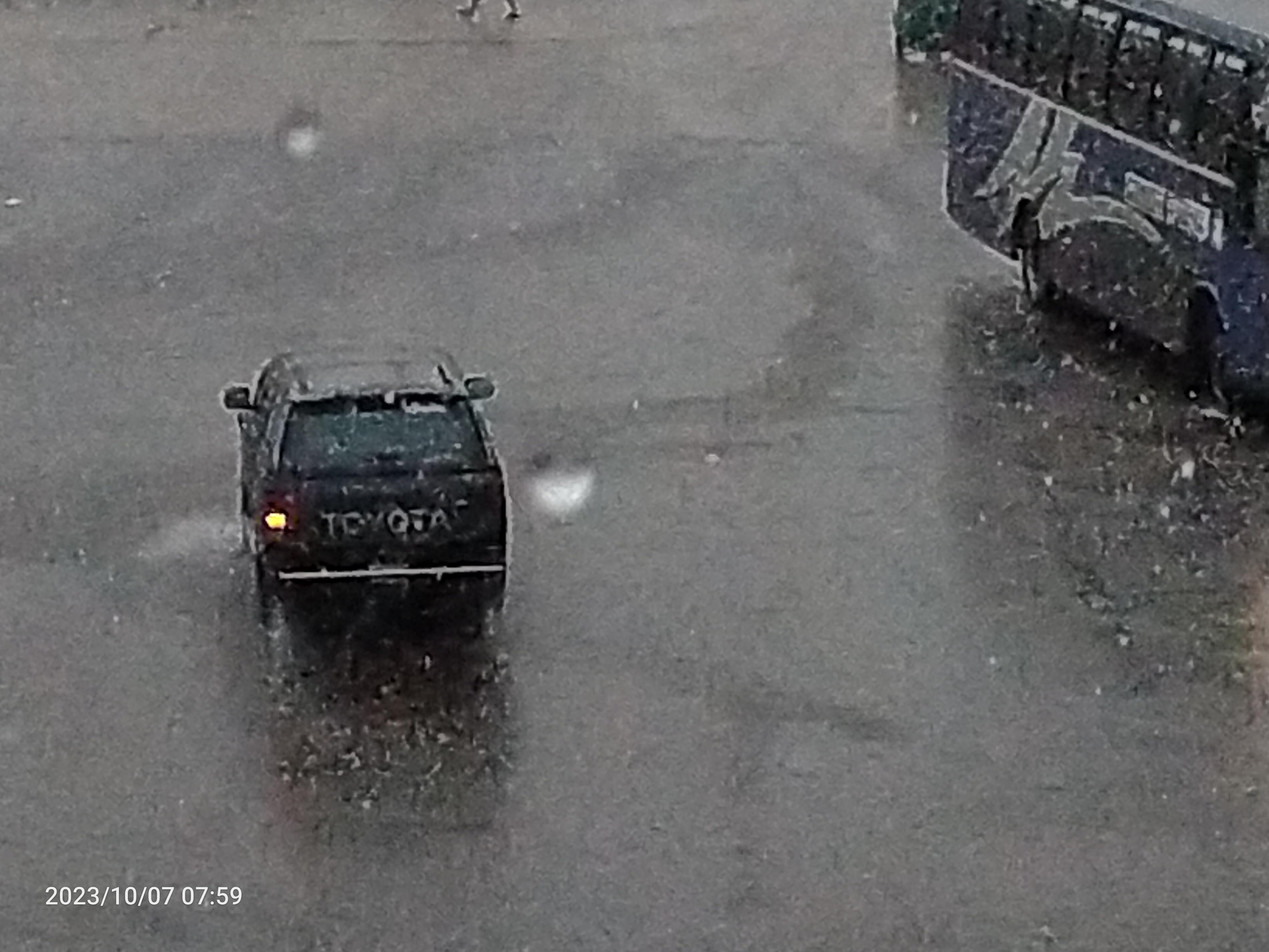Bus: (866, 0, 1266, 476)
Car: (192, 323, 555, 662)
